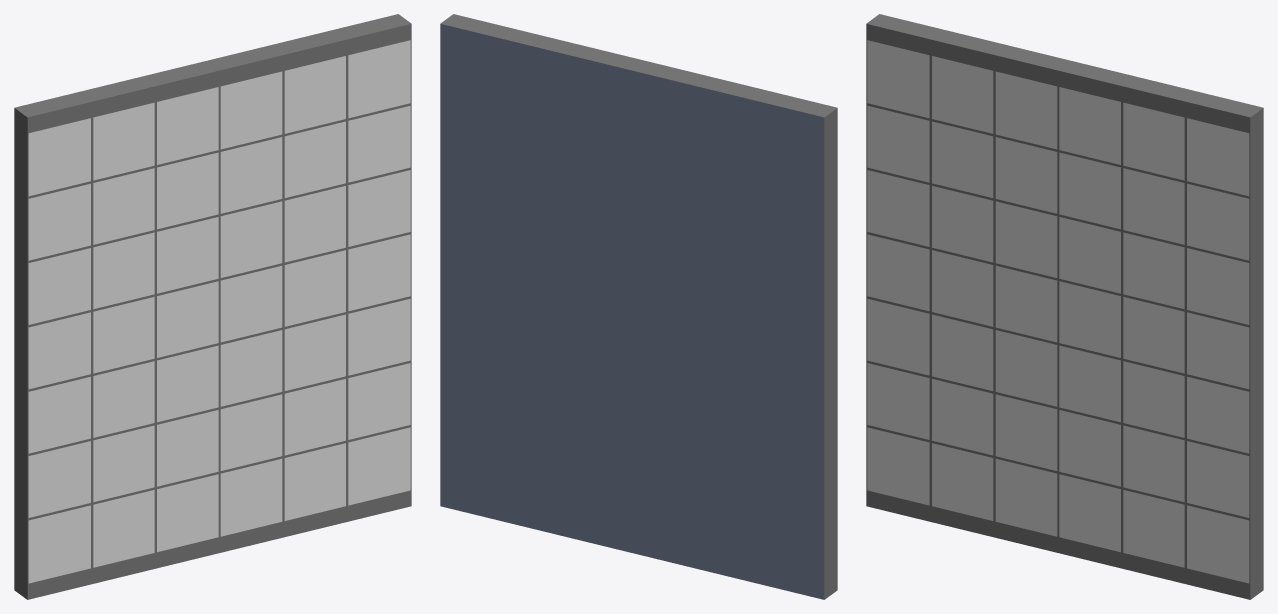
Rendered from Wall3_C7_01.fbx.
3 views of the same model, side by side, from view 1: azimuth 30°, elevation 25°; view 2: azimuth 150°, elevation 25°; view 3: azimuth 330°, elevation 25° (orthographic).
Visible parts, largest first — view 1: Wall3_C7_01; view 2: Wall3_C7_01; view 3: Wall3_C7_01.
Part boxes in pixels (<box>): Wall3_C7_01: <box>14,14,411,599</box>; Wall3_C7_01: <box>440,14,837,599</box>; Wall3_C7_01: <box>866,14,1263,599</box>.
Bounding box in the file's own units: 250 × 300 × 15.
